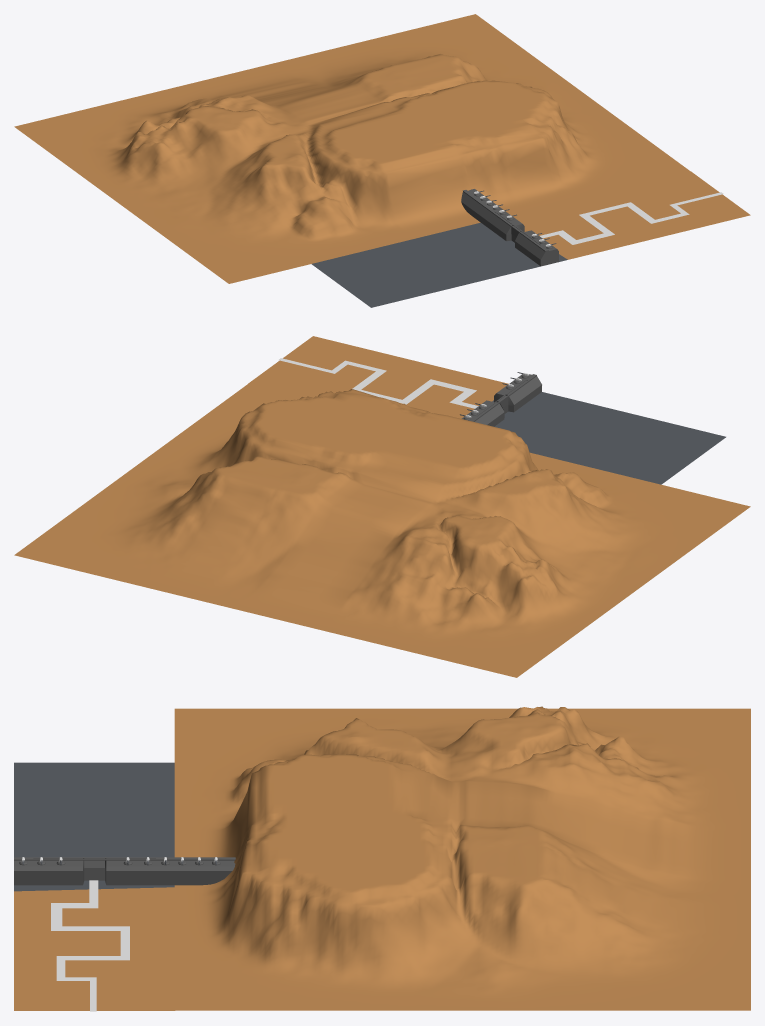
The model's file is basemap1.fbx.
3 views of the same model, one above another, from view 1: azimuth 30°, elevation 25°; view 2: azimuth 150°, elevation 25°; view 3: azimuth 270°, elevation 25° (orthographic). The views are drawn at different scales.
Parts seen in each view (by area): view 1: Landscape.001, Plane, theWall, Plane.001; view 2: Landscape.001, Plane, theWall, Plane.001; view 3: Landscape.001, Plane, theWall, Plane.001.
Boxes of the visible parts, left/top/right/bottom form: Landscape.001: left=14, top=14, right=690, bottom=283; Plane: left=311, top=171, right=750, bottom=307; theWall: left=461, top=189, right=558, bottom=266; Plane.001: left=540, top=192, right=723, bottom=244; Landscape.001: left=14, top=384, right=750, bottom=677; Plane: left=248, top=336, right=725, bottom=484; theWall: left=461, top=374, right=541, bottom=426; Plane.001: left=278, top=358, right=478, bottom=408; Landscape.001: left=174, top=706, right=750, bottom=1010; Plane: left=14, top=762, right=174, bottom=1010; theWall: left=14, top=857, right=235, bottom=885; Plane.001: left=51, top=880, right=129, bottom=1011.
Bounding box in the file's own units: 28892 × 2903 × 29702.
